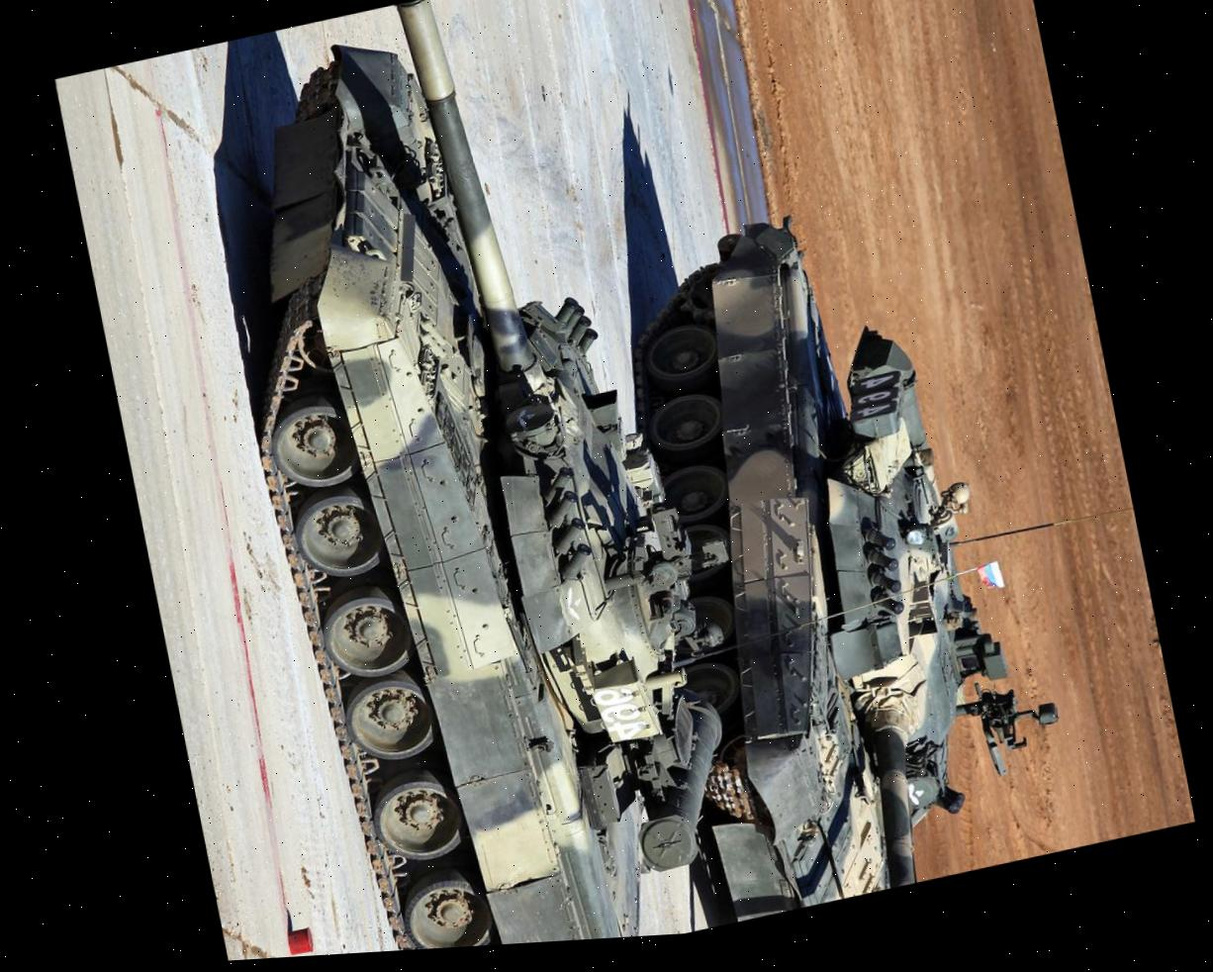tank: (175, 0, 762, 962), (573, 168, 1089, 934)
